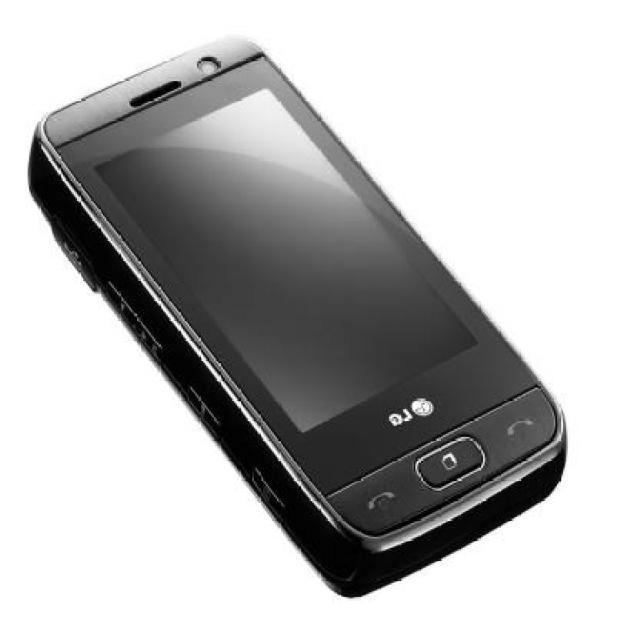fake: (34, 13, 548, 579)
